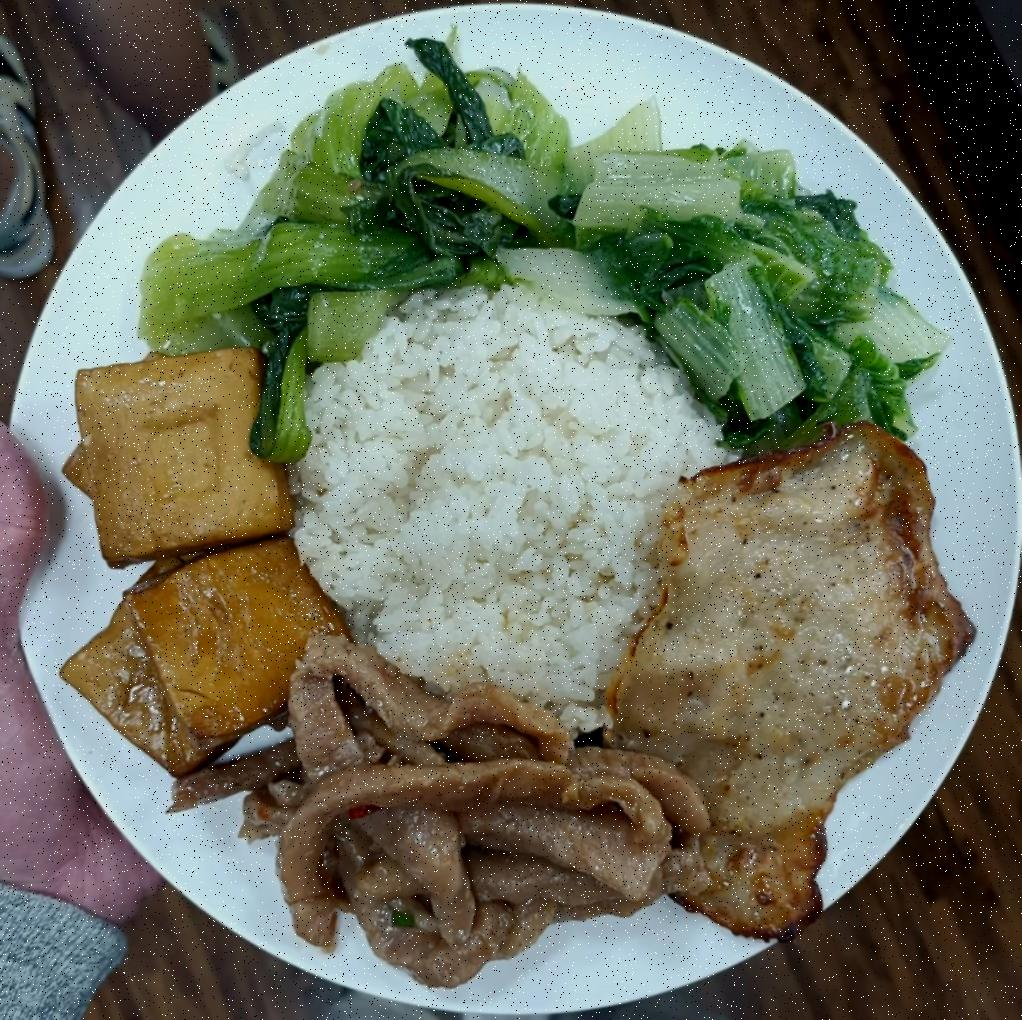big fried chicken leg: (6, 13, 1022, 1020)
big herbal chicken leg: (294, 286, 730, 726)
braised fish fillet: (142, 48, 558, 459), (578, 95, 952, 445), (62, 346, 346, 781)
braised pork: (600, 418, 983, 944), (234, 629, 696, 978)
